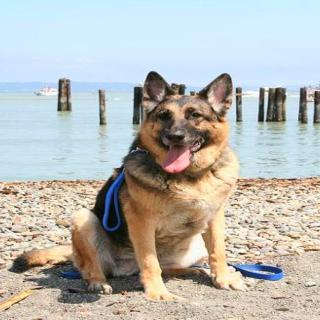dog: (132, 72, 248, 179)
nose: (163, 125, 187, 144)
